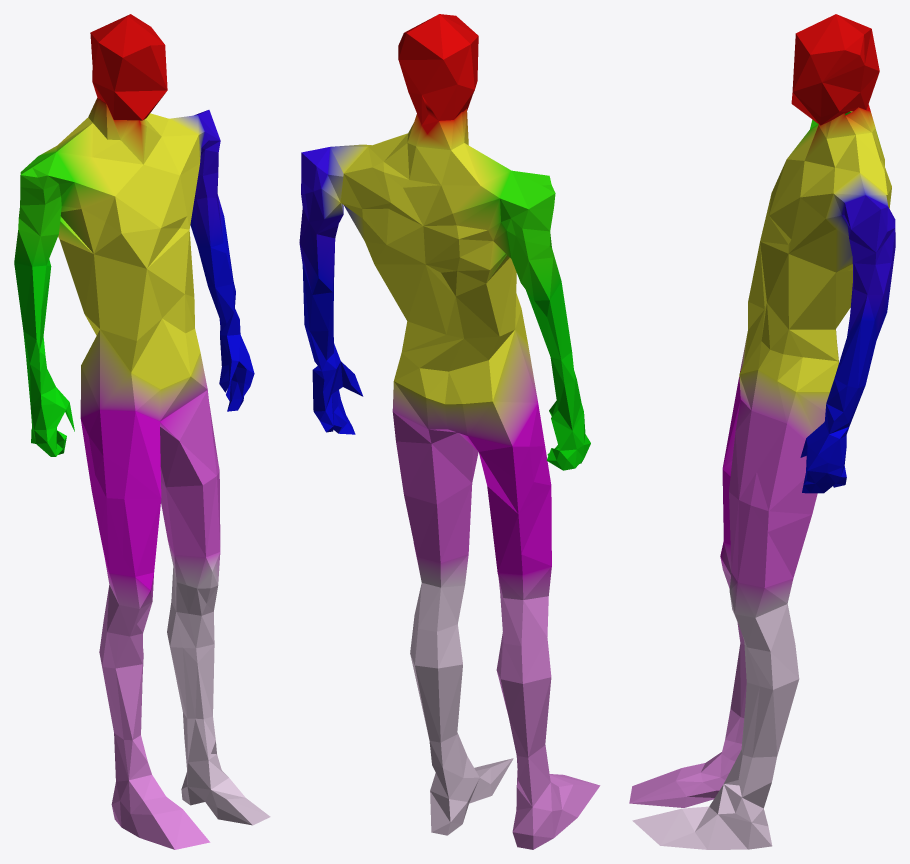
The model's file is SuperHotColored.obj.
3 renders of one model, left to right at view 1: azimuth 30°, elevation 25°; view 2: azimuth 150°, elevation 25°; view 3: azimuth 270°, elevation 25°, orthographic. The views are drawn at different scales.
Visible parts, largest first — view 1: obj1.001; view 2: obj1.001; view 3: obj1.001.
Part boxes in pixels (left/top/right/bottom): obj1.001: left=14, top=14, right=270, bottom=849; obj1.001: left=299, top=14, right=600, bottom=849; obj1.001: left=629, top=14, right=895, bottom=849.
Size of the model in its own units: 2.48 by 8.09 by 2.4.
